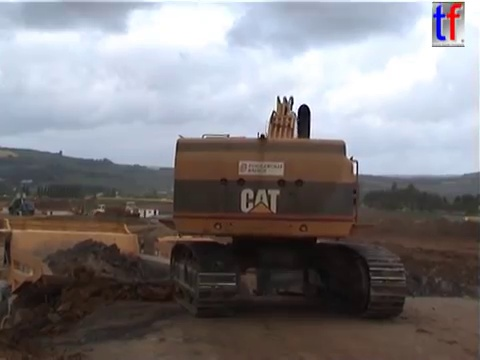excavator: (165, 93, 412, 321)
truck: (1, 216, 189, 360), (152, 232, 242, 304), (111, 199, 145, 216), (92, 200, 125, 217)
